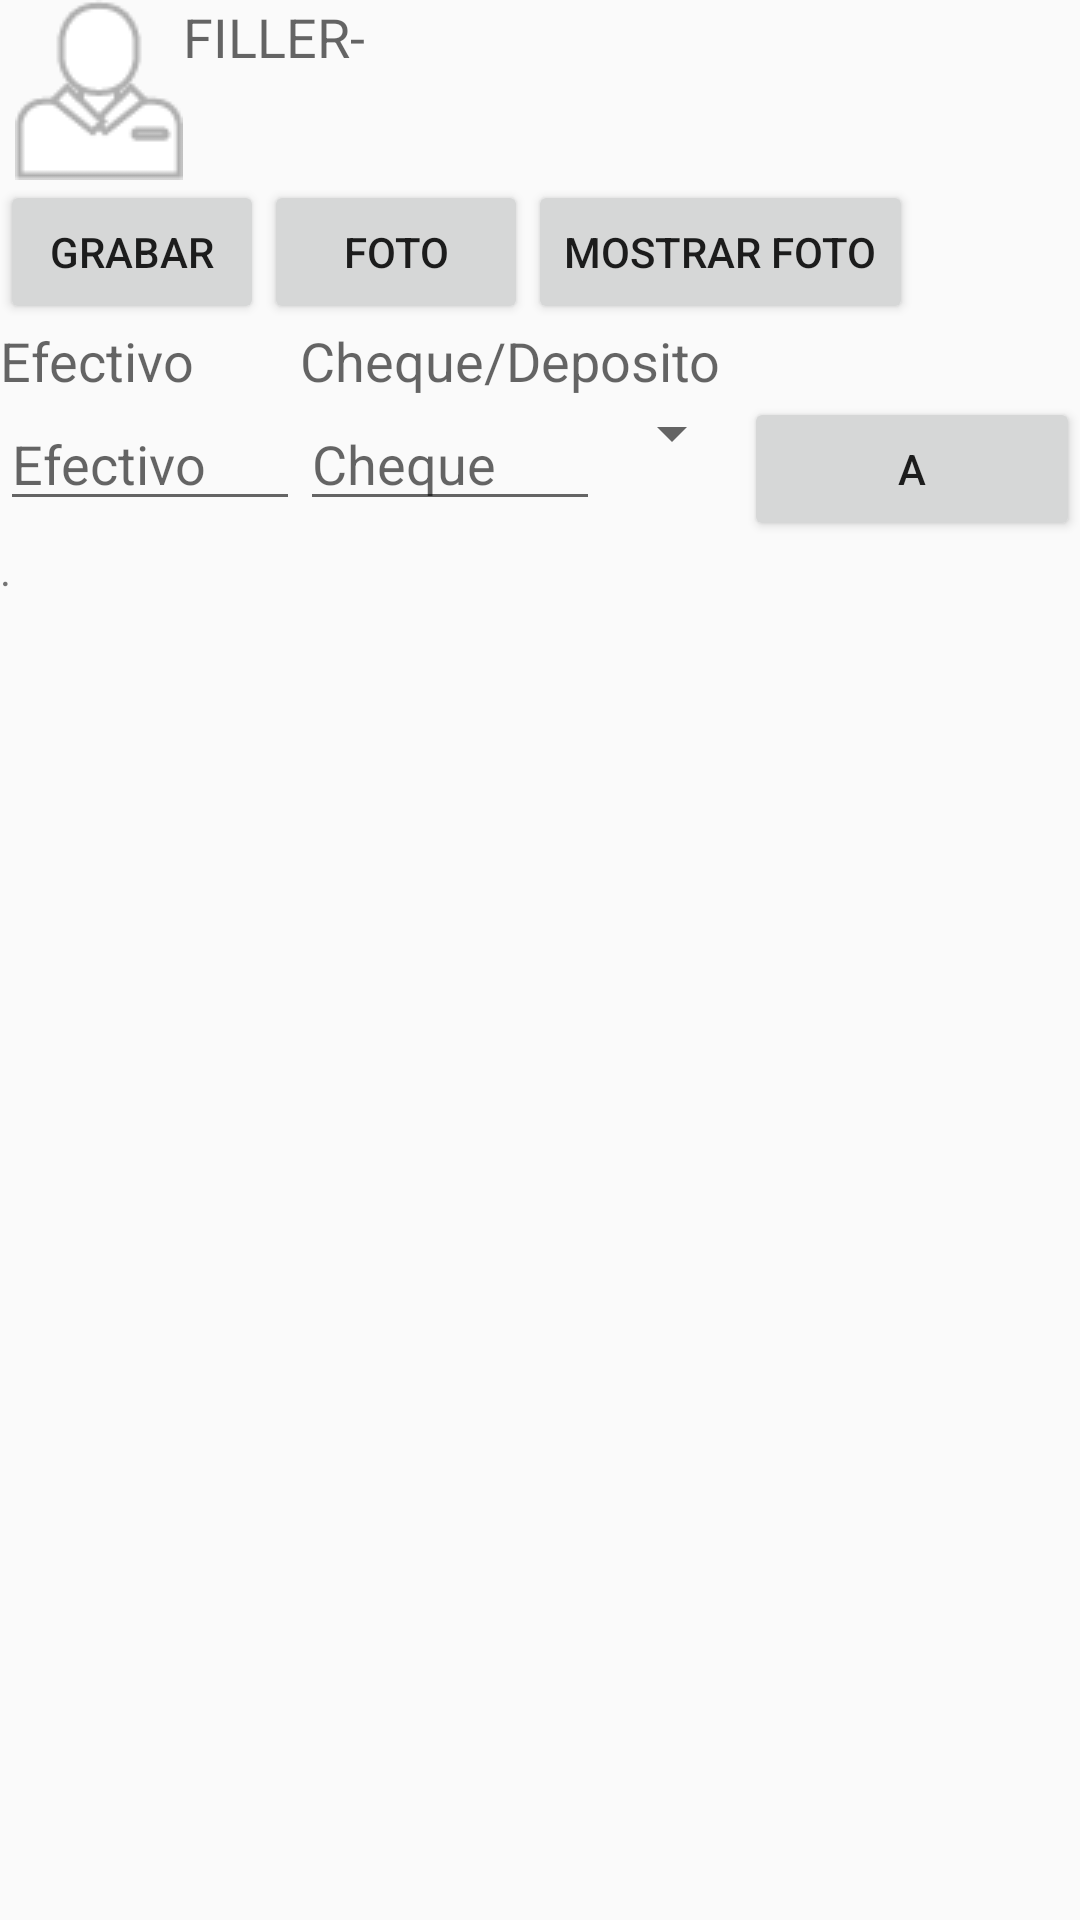

Icons on this 1080×1920 Android screen, each with its box as (x1, y1, x2, y2):
cliente item: (15, 2, 183, 180)
